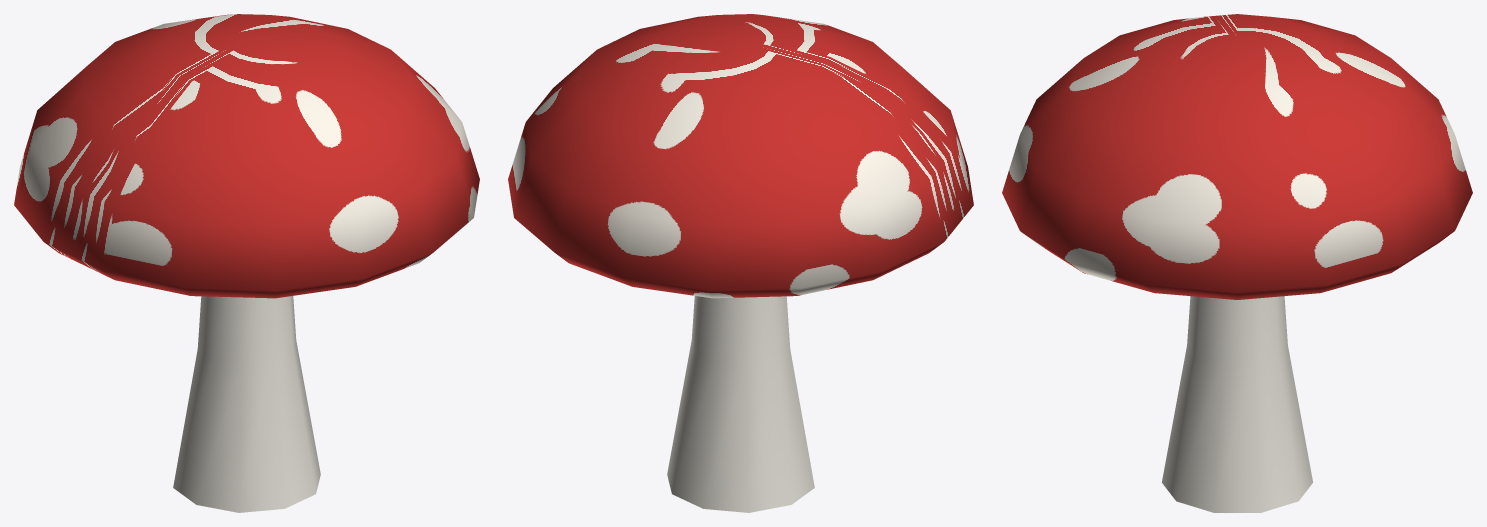
The model's file is mushroom.glb.
3 views of the same model, side by side, from view 1: azimuth 30°, elevation 25°; view 2: azimuth 150°, elevation 25°; view 3: azimuth 270°, elevation 25° (orthographic).
Parts seen in each view (by area): view 1: mushroom; view 2: mushroom; view 3: mushroom.
Boxes of the visible parts, left/top/right/bottom form: mushroom: left=14, top=14, right=479, bottom=512; mushroom: left=508, top=14, right=973, bottom=512; mushroom: left=1002, top=14, right=1472, bottom=512.
Size of the model in its own units: 0.4828 by 0.5 by 0.4828.
2 materials, 1 textured.
